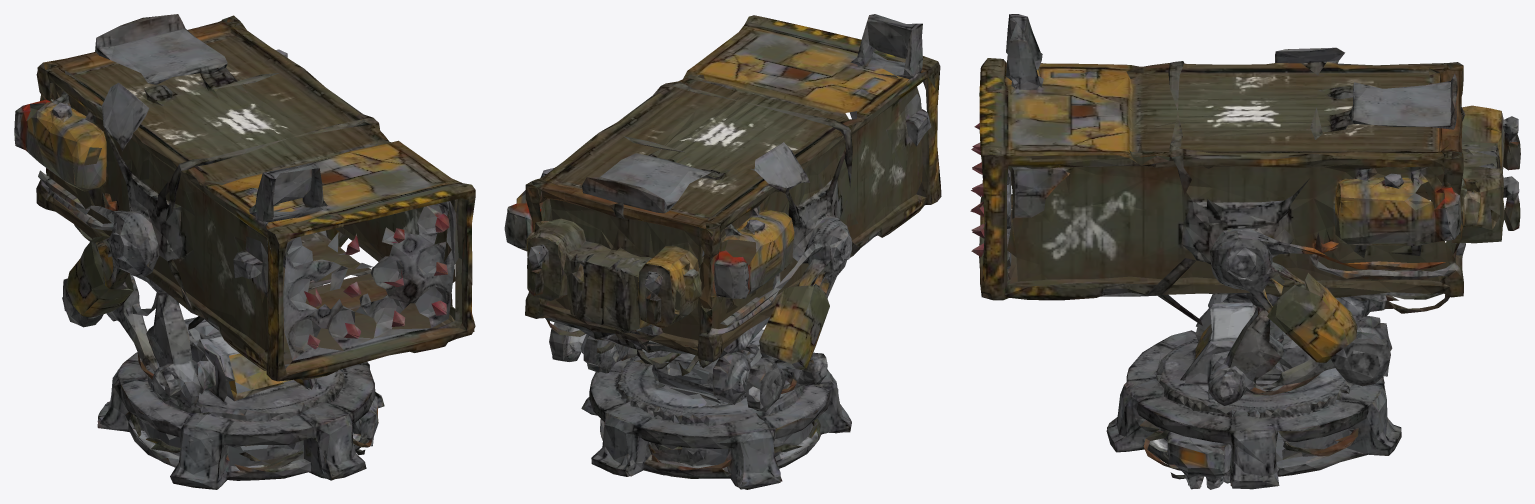
Rendered from 03_外掛飛彈箱.glb.
The picture shows the model from 3 angles, left to right: view 1: azimuth 30°, elevation 25°; view 2: azimuth 150°, elevation 25°; view 3: azimuth 270°, elevation 25°; orthographic projection. The views are drawn at different scales.
Visible parts, largest first — view 1: part_1; view 2: part_1; view 3: part_1.
Part boxes in pixels (x1,y1,x2,y2): part_1: (14,14,475,489); part_1: (504,14,941,489); part_1: (970,14,1520,489).
Size of the model in its own units: 0.5486 by 0.755 by 0.9898.
1 material, 1 textured.
